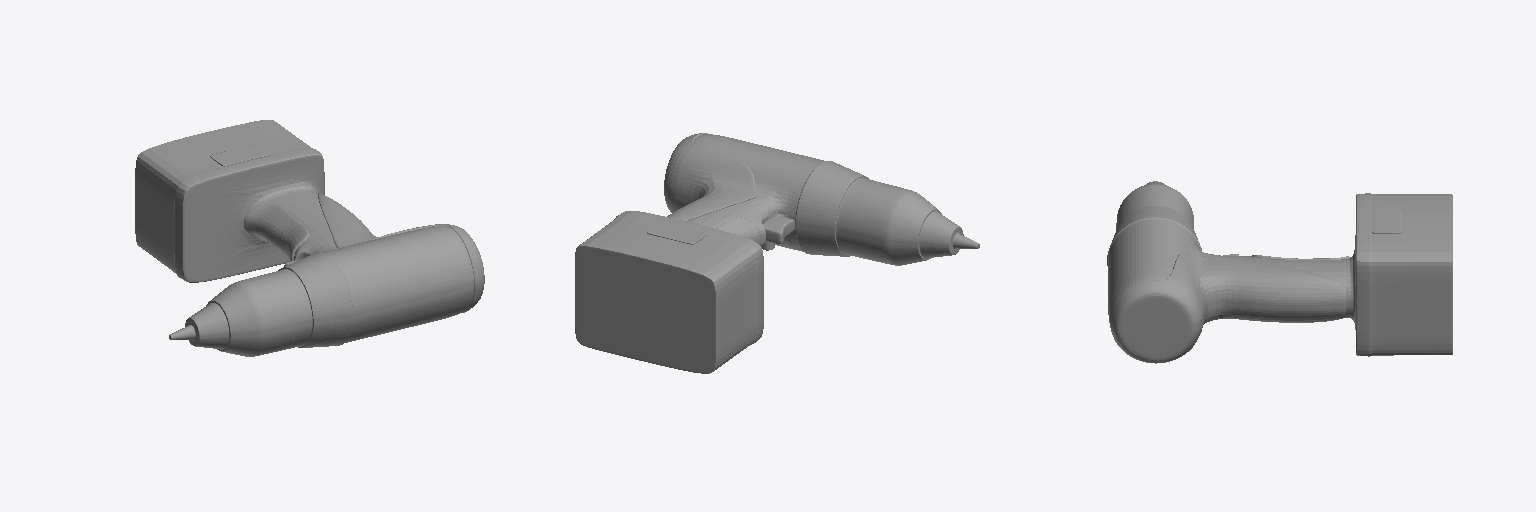
Rendered from drill.obj.
3 renders of one model, left to right at view 1: azimuth 30°, elevation 25°; view 2: azimuth 150°, elevation 25°; view 3: azimuth 270°, elevation 25°, orthographic.
Visible parts, largest first — view 1: 10108_Cordless_Drill_v2; view 2: 10108_Cordless_Drill_v2; view 3: 10108_Cordless_Drill_v2.
Boxes of the visible parts, <box> form: 10108_Cordless_Drill_v2: <box>135,120,484,356</box>; 10108_Cordless_Drill_v2: <box>575,133,979,373</box>; 10108_Cordless_Drill_v2: <box>1107,181,1452,363</box>.
Size of the model in its own units: 0.3419 by 0.1174 by 0.345.